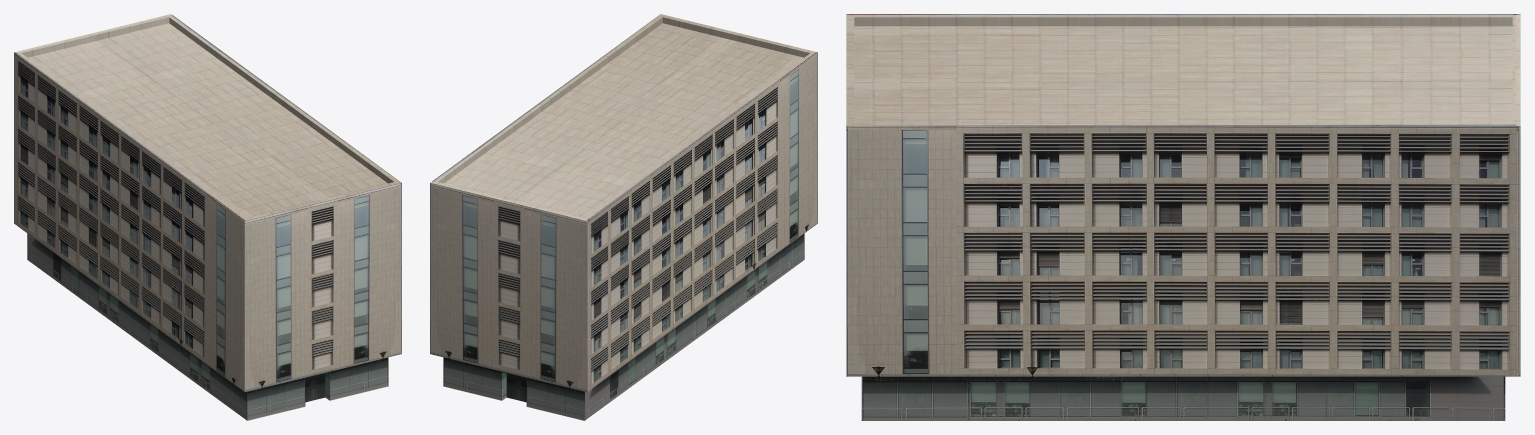
File: building.glb
The picture shows the model from 3 angles, left to right: view 1: azimuth 30°, elevation 25°; view 2: azimuth 150°, elevation 25°; view 3: azimuth 270°, elevation 25°; orthographic projection. The views are drawn at different scales.
Visible parts, largest first — view 1: Cube; view 2: Cube; view 3: Cube.
Part boxes in pixels (<box>): Cube: <box>14,14,401,420</box>; Cube: <box>430,14,817,420</box>; Cube: <box>846,14,1520,420</box>.
Size of the model in its own units: 14 by 17.5 by 35.59.
1 material, 1 textured.
